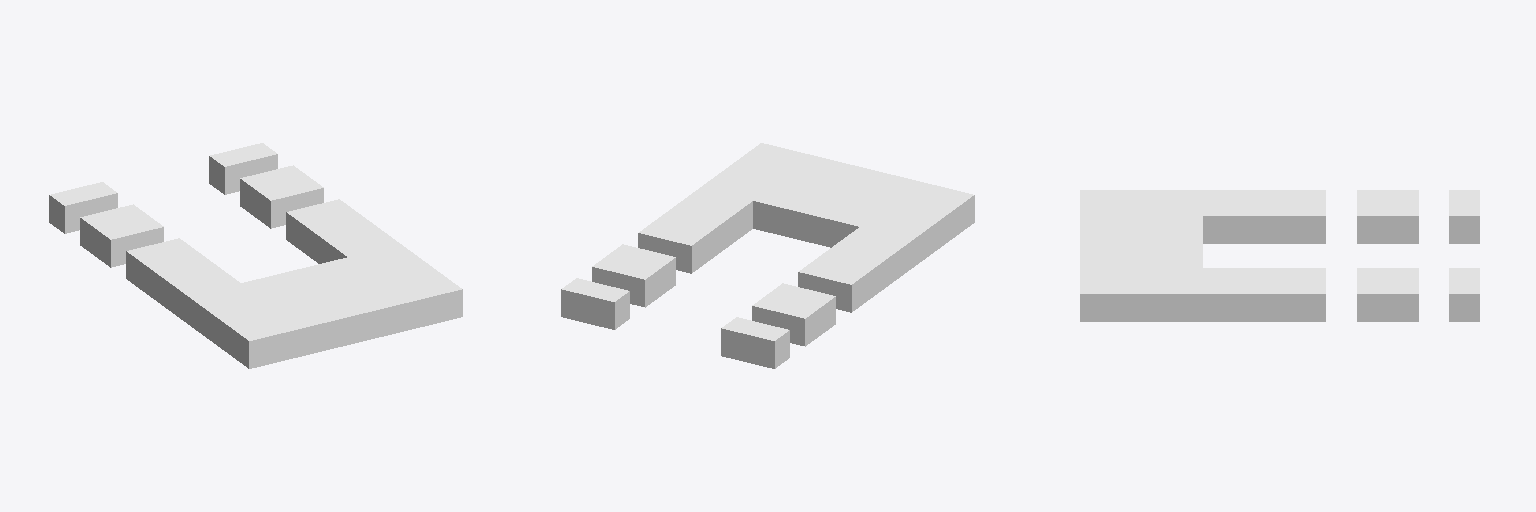
Rendered from Thruster-3-RedFighter_EngineFire.obj.
3 views of the same model, side by side, from view 1: azimuth 30°, elevation 25°; view 2: azimuth 150°, elevation 25°; view 3: azimuth 270°, elevation 25° (orthographic).
Visible parts, largest first — view 1: RedFighter_EngineFire; view 2: RedFighter_EngineFire; view 3: RedFighter_EngineFire.
Boxes of the visible parts, x1=… form: RedFighter_EngineFire: x1=49, y1=143, x2=462, y2=368; RedFighter_EngineFire: x1=561, y1=143, x2=974, y2=368; RedFighter_EngineFire: x1=1080, y1=190, x2=1479, y2=321.
Bounding box in the file's own units: 0.8 × 0.1 × 1.3.